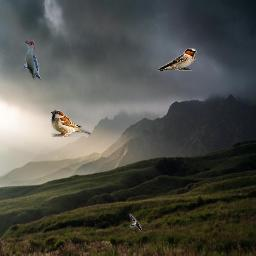Sparrow: (51, 110, 91, 137)
Swallow: (157, 48, 197, 71), (129, 213, 142, 232)
Woodpecker: (24, 40, 41, 80)
